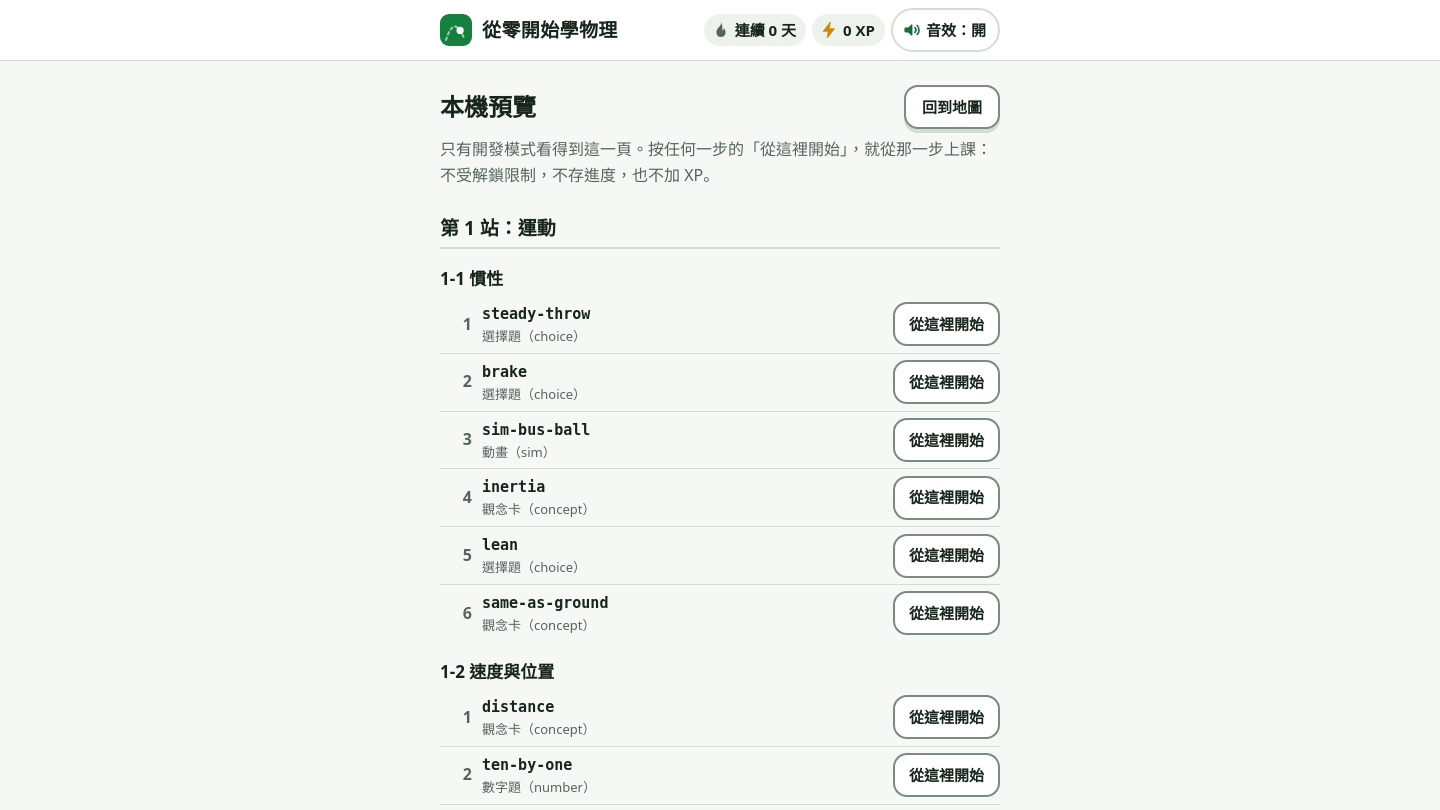
Test: 預覽頁的「回到地圖」回到地圖
Click the button "回到地圖": click(952, 107) [904, 85, 1000, 129]
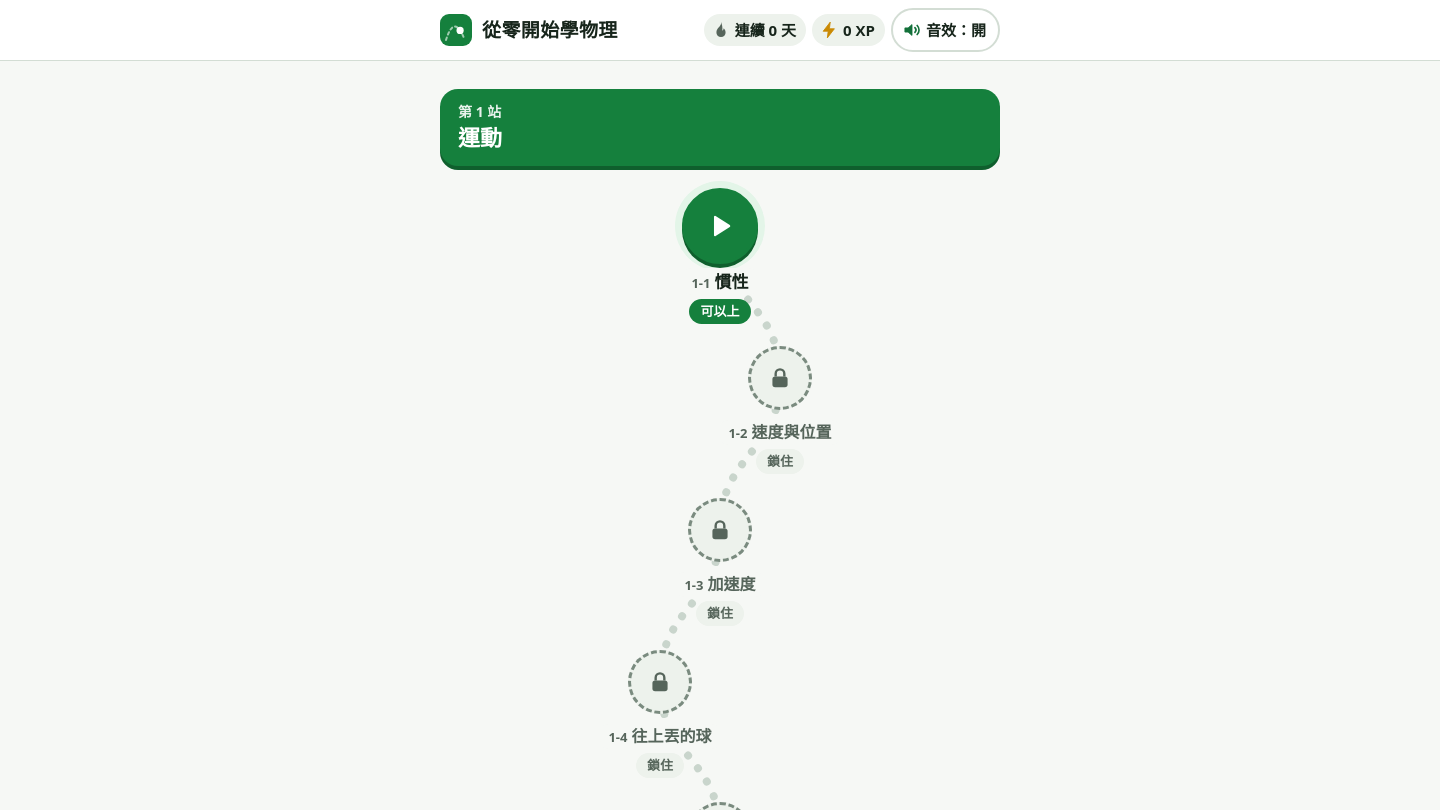
Check: the link "1-1 慣性 可以上" is shown, box [682, 186, 758, 324]
